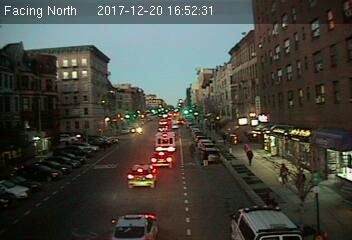car: (127, 163, 158, 187), (149, 150, 175, 168), (200, 147, 222, 162)
police: (228, 204, 302, 240), (109, 211, 161, 240)
truck: (153, 131, 176, 151)
